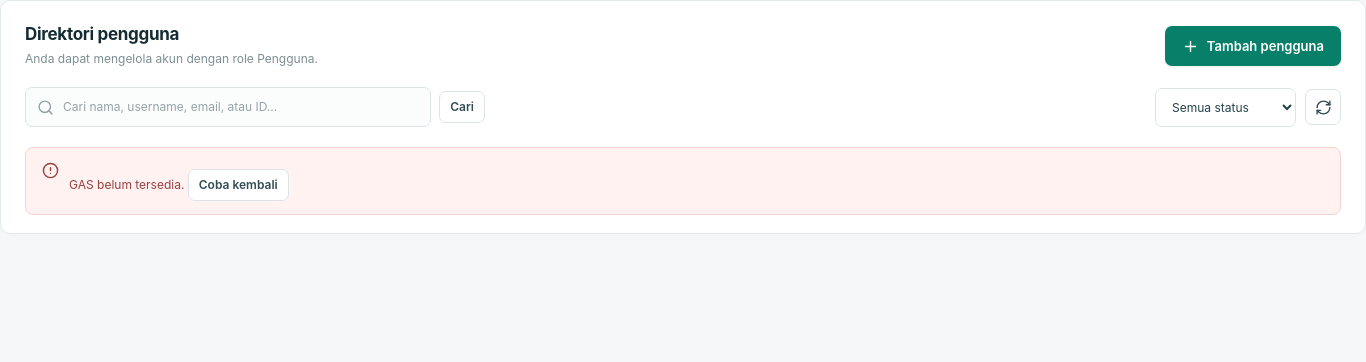
Test: UI09 kegagalan backend menampilkan retry dan tidak menampilkan angka buatan
Expected: the message shows "GAS belum tersedia", [69,177,184,192]
Expected: the text "Guru Utama" is not shown
Click the button "Coba kembali".
click(238, 185)  # box [188,169,289,201]
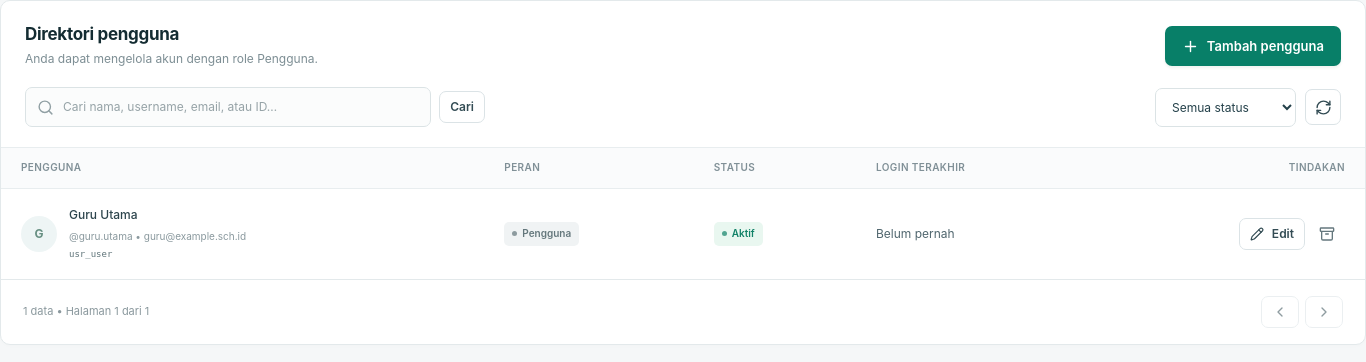
Result: the text "Guru Utama" is shown at [69,207,138,222]
